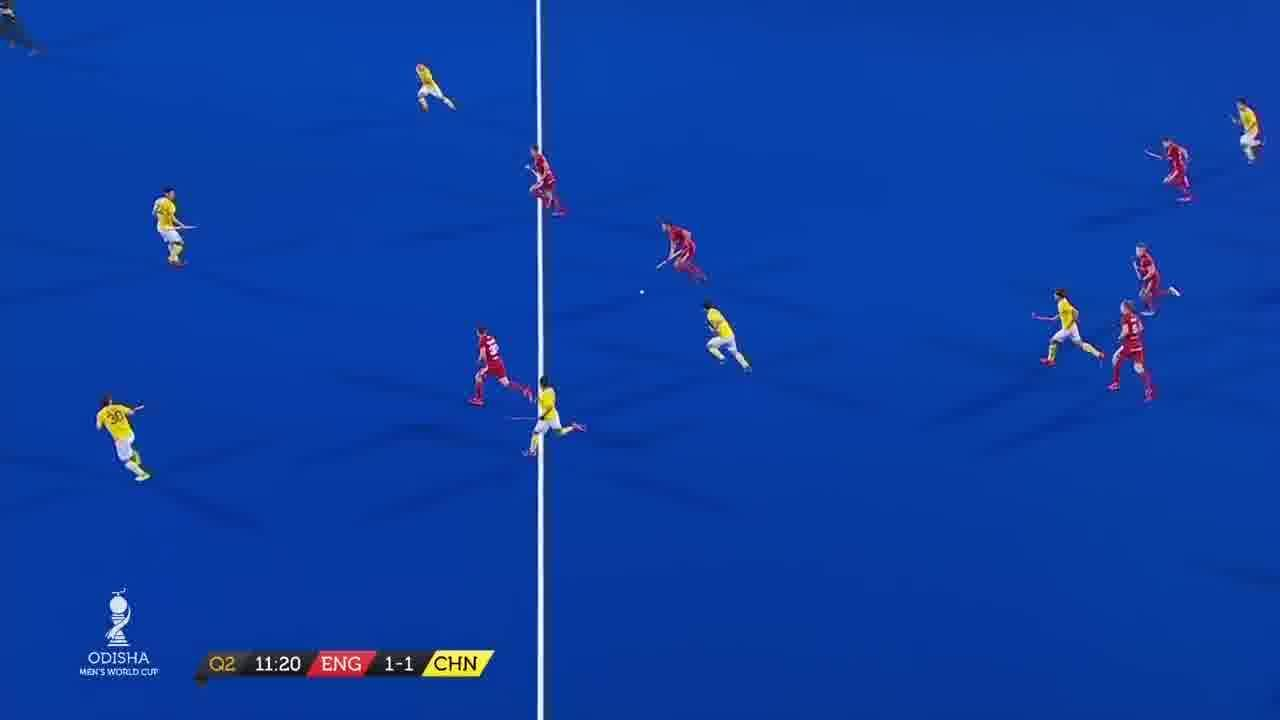ball: (634, 280, 652, 303)
